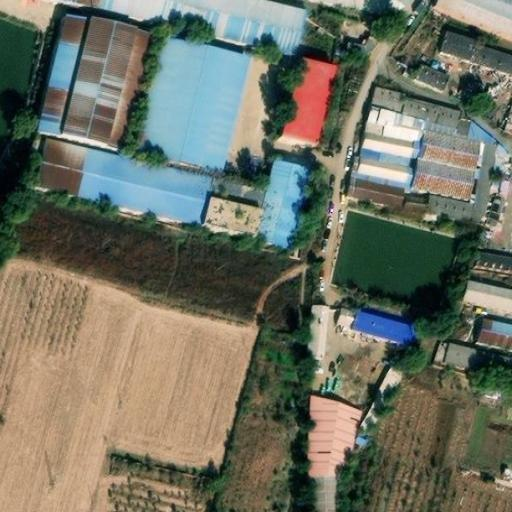building: (37, 12, 149, 150), (33, 139, 211, 225), (138, 36, 249, 171), (68, 0, 300, 49), (405, 143, 512, 229), (367, 90, 496, 146), (350, 118, 423, 210), (306, 394, 363, 475), (279, 56, 333, 141), (258, 162, 311, 246), (200, 174, 269, 238), (355, 368, 405, 446), (338, 305, 417, 346), (409, 157, 477, 204), (440, 29, 512, 71), (417, 130, 483, 170), (443, 344, 512, 380), (461, 279, 512, 313), (305, 303, 327, 358), (467, 250, 512, 274), (479, 318, 512, 350), (415, 65, 449, 90), (499, 100, 512, 135)
